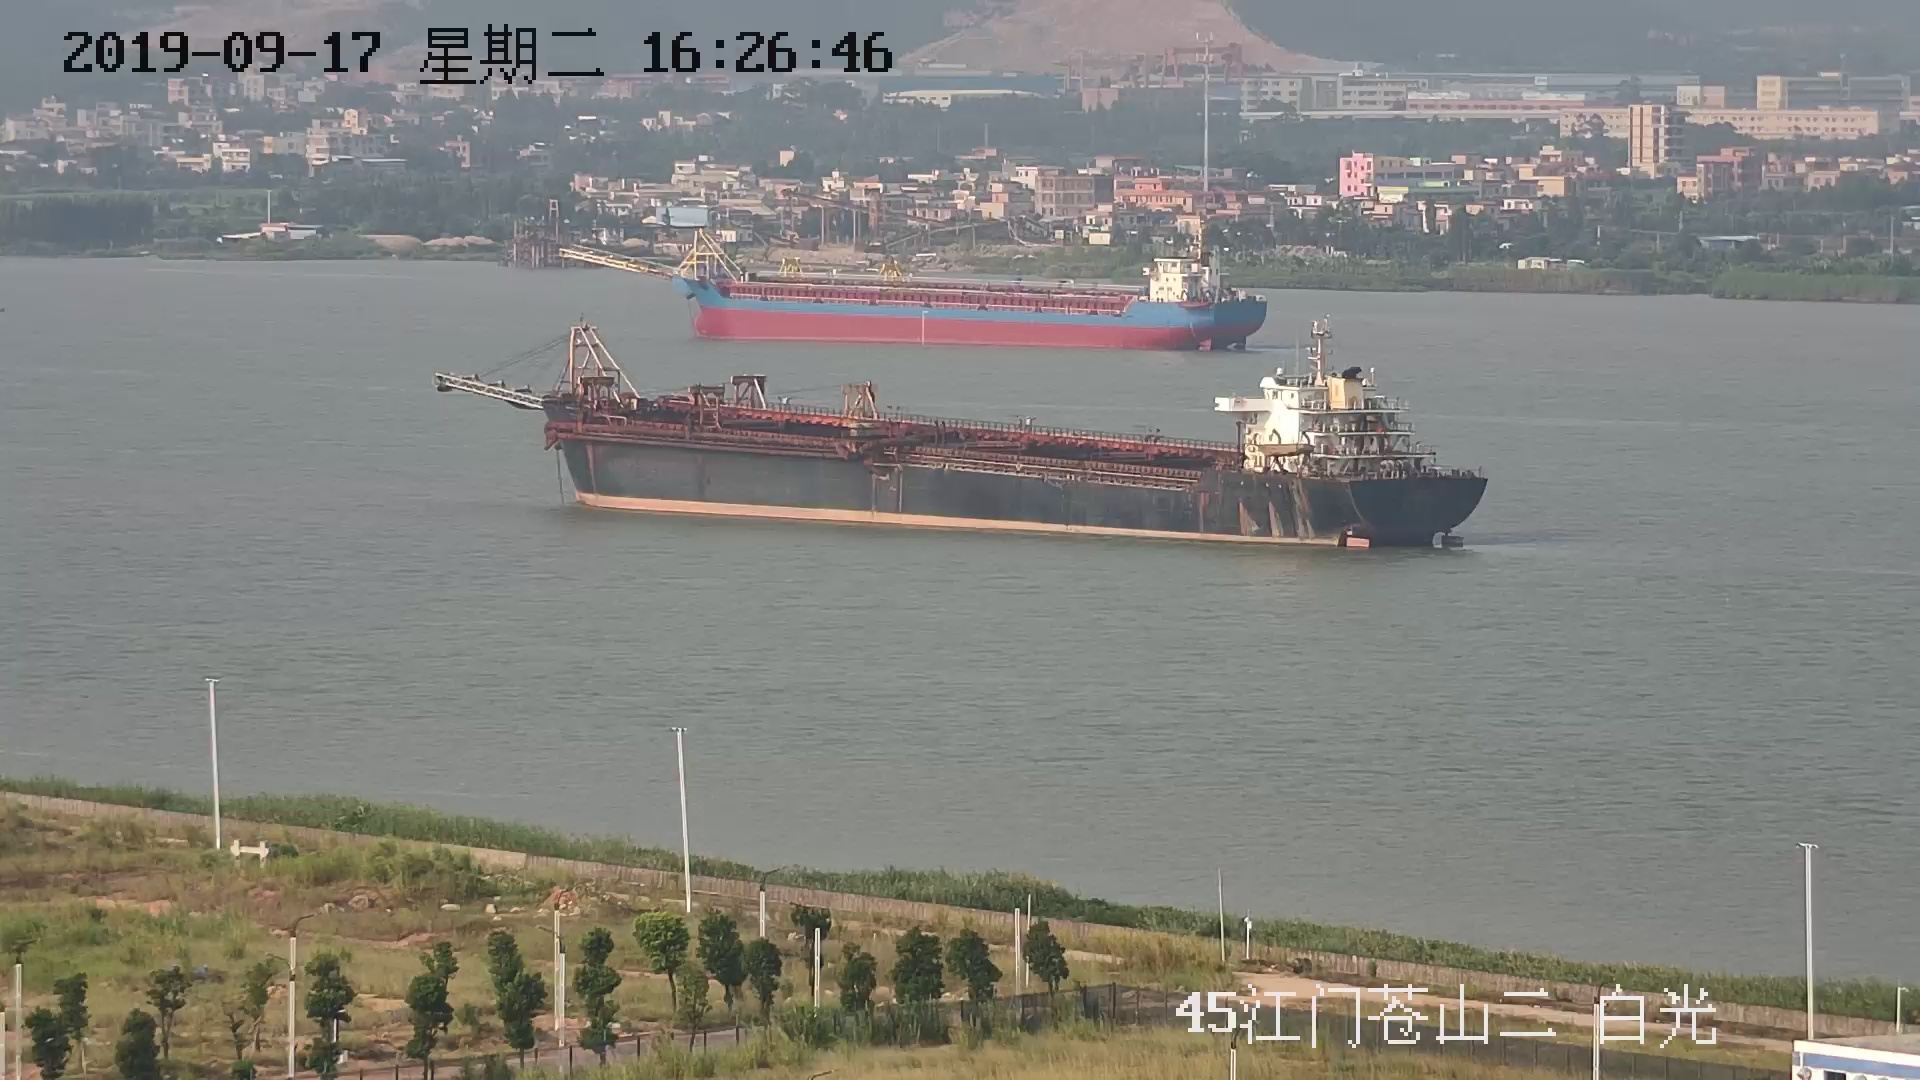ship: (454, 327, 1481, 555), (555, 233, 1271, 351)
